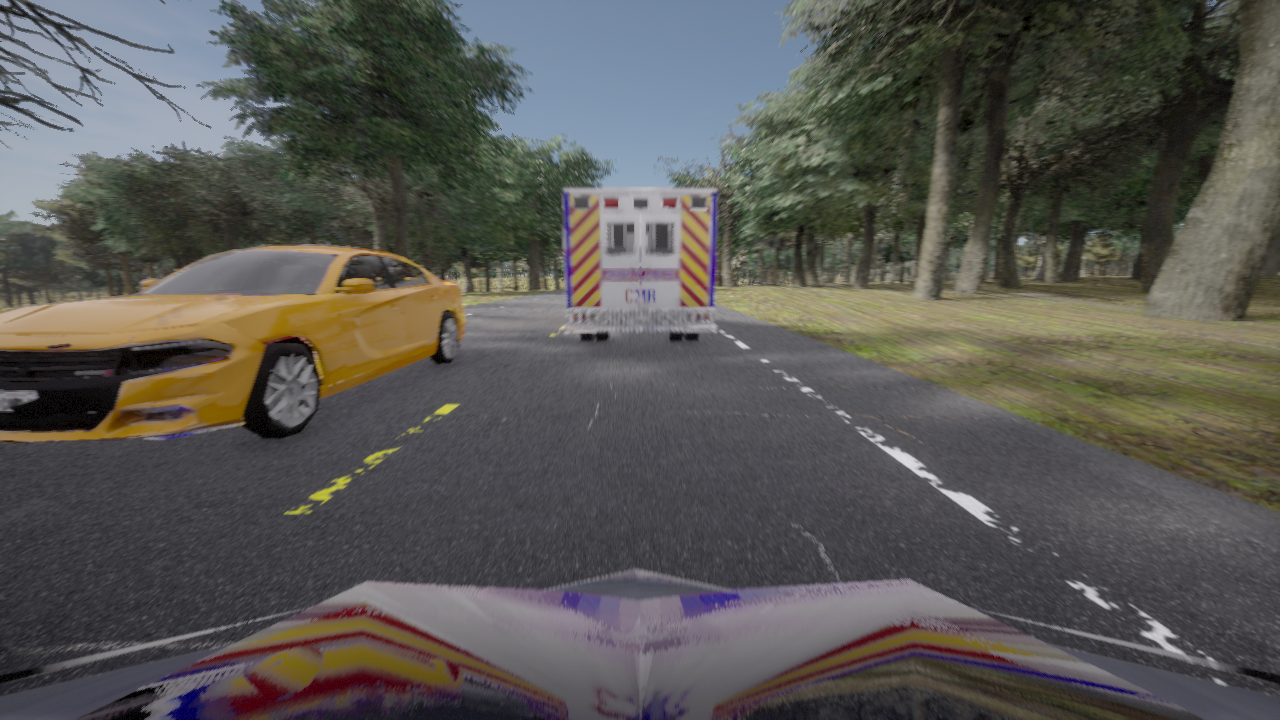cyclist: (0, 569, 1279, 719), (0, 244, 464, 442), (563, 188, 717, 341)
